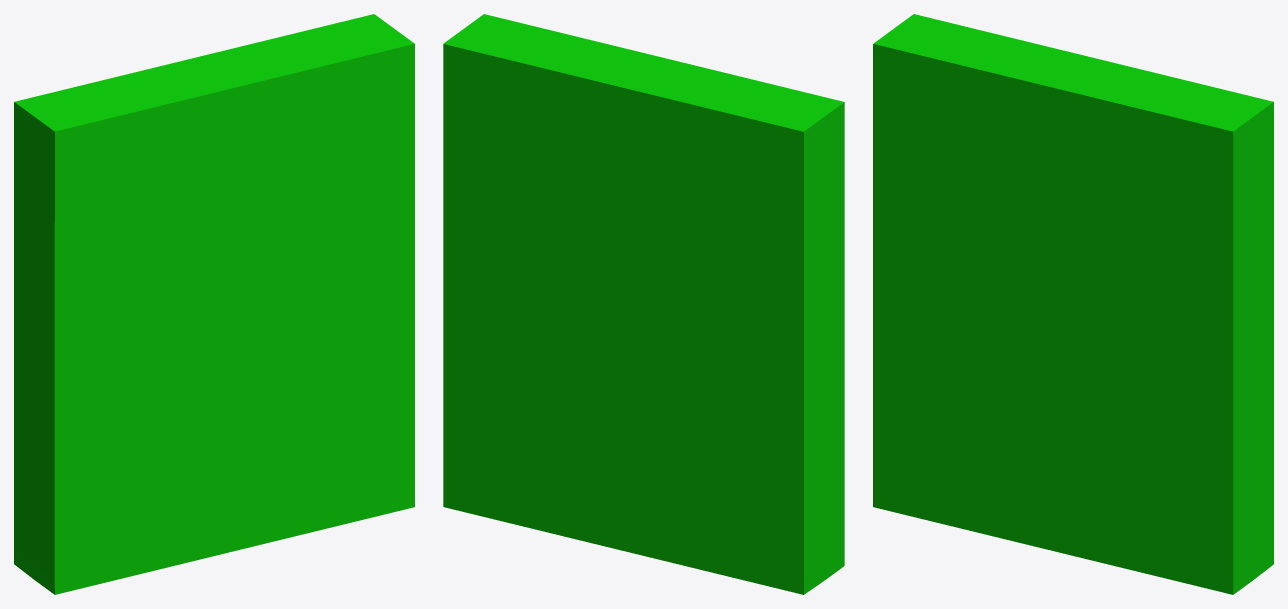
The picture shows the model from 3 angles, left to right: view 1: azimuth 30°, elevation 25°; view 2: azimuth 150°, elevation 25°; view 3: azimuth 330°, elevation 25°; orthographic projection.
Bounding box in the file's own units: 1.55 × 1.91 × 0.3036.
